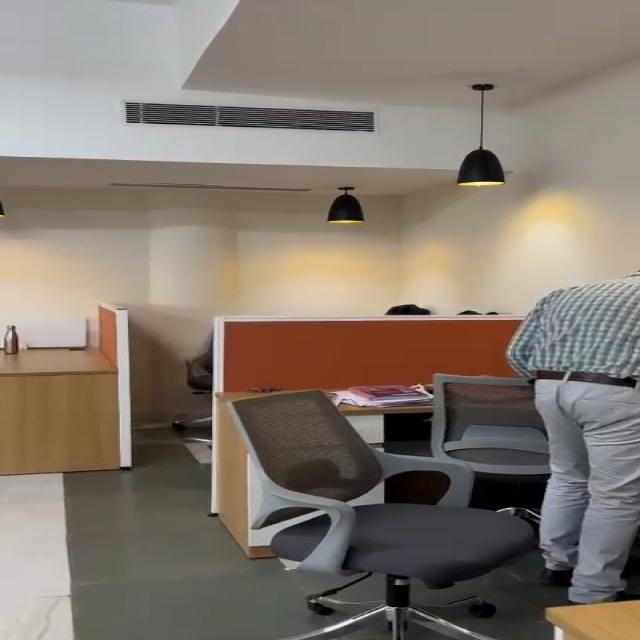floor: (6, 477, 219, 640)
furniture: (230, 376, 471, 640), (422, 343, 526, 538), (0, 312, 48, 375)
moving_object: (518, 242, 640, 597)
wall: (0, 35, 640, 299)
